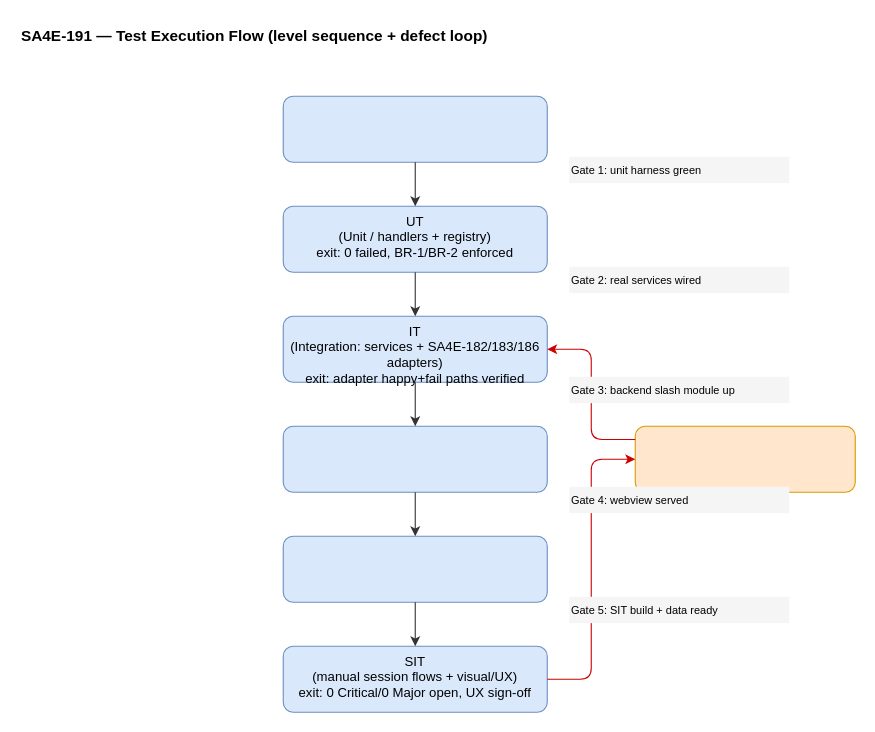
The diagram is 875 pixels wide and 732 high, and some of its shapes have lost their labels. Each missing label, with the centre of its shape:
Defect Fix & Retest (Dev fixes; suites re-run): the point at 744,458
E2E-API (real command bus + auth) exit: 7 cmds + auth + error green: the point at 414,458
E2E-UI (Playwright: menu + panels) exit: menu <100ms, all panels open: the point at 414,568
PBT (Property-Based) entry: compiled handlers + stubbed adapters: the point at 414,128
